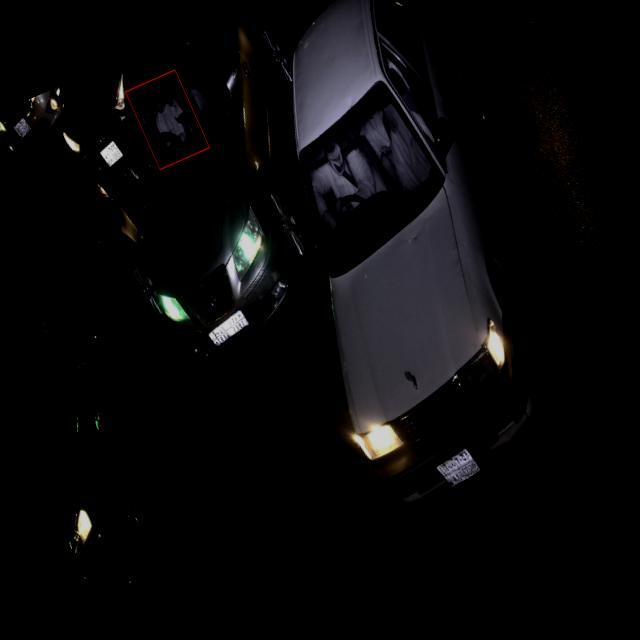windshield: (284, 70, 488, 274), (90, 71, 234, 211)
